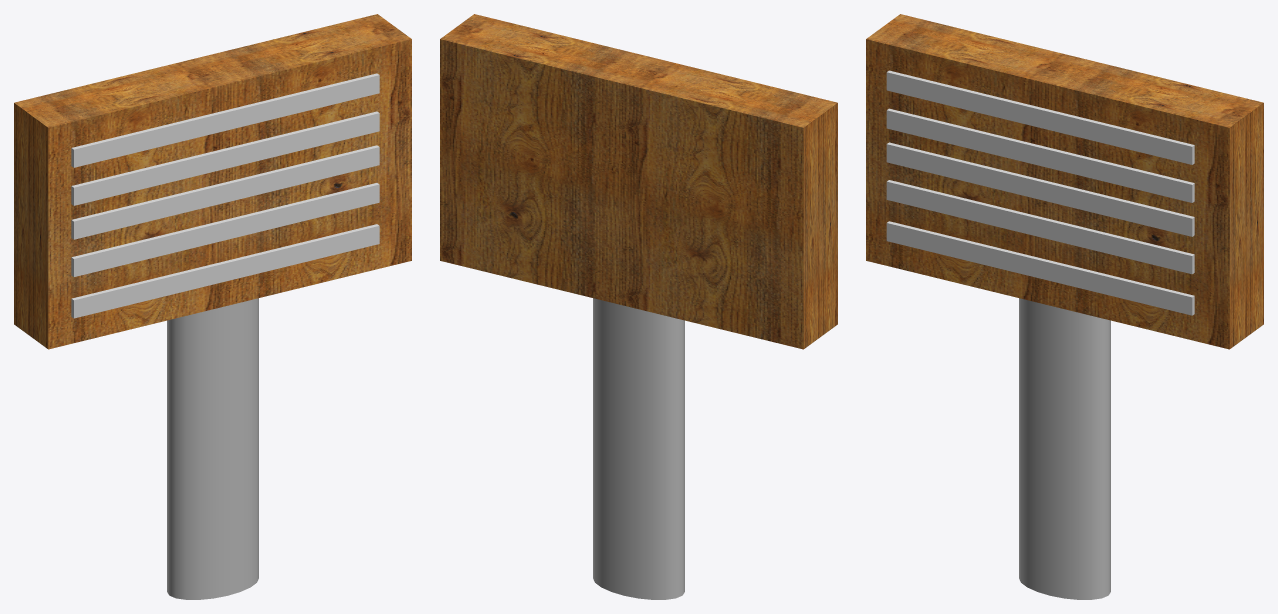
File: SignText.fbx
3 views of the same model, side by side, from view 1: azimuth 30°, elevation 25°; view 2: azimuth 150°, elevation 25°; view 3: azimuth 330°, elevation 25° (orthographic).
Parts seen in each view (by area): view 1: pCube1, pCylinder1, pCube3, pCube4, pCube2, pCube5, pCube6; view 2: pCube1, pCylinder1; view 3: pCube1, pCylinder1, pCube2, pCube3, pCube4, pCube5, pCube6.
Boxes of the visible parts, bbox=[...] form: pCube1: bbox=[14, 14, 411, 349]; pCylinder1: bbox=[167, 298, 258, 599]; pCube3: bbox=[71, 111, 379, 205]; pCube4: bbox=[71, 73, 379, 167]; pCube2: bbox=[71, 145, 379, 239]; pCube5: bbox=[71, 183, 379, 276]; pCube6: bbox=[71, 224, 379, 318]; pCube1: bbox=[440, 14, 837, 349]; pCylinder1: bbox=[593, 298, 684, 599]; pCube1: bbox=[866, 14, 1263, 349]; pCylinder1: bbox=[1019, 298, 1110, 599]; pCube2: bbox=[886, 142, 1194, 236]; pCube3: bbox=[886, 108, 1194, 202]; pCube4: bbox=[886, 70, 1194, 164]; pCube5: bbox=[886, 180, 1194, 274]; pCube6: bbox=[886, 221, 1194, 315].
Bounding box in the file's own units: 1.18 × 1.6 × 0.2072.
